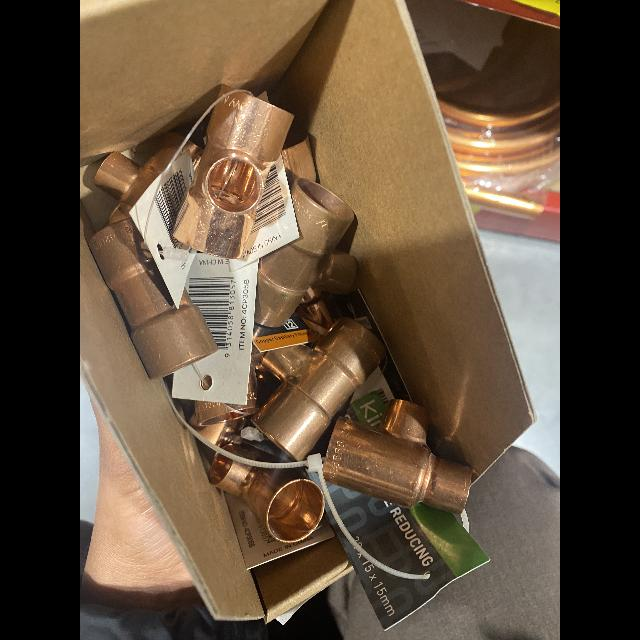Copper: (175, 90, 294, 259), (90, 219, 215, 378), (254, 318, 385, 460), (323, 400, 473, 513), (255, 178, 358, 327), (209, 453, 323, 542), (95, 130, 185, 225), (227, 353, 265, 411), (189, 413, 246, 447), (281, 137, 316, 184), (296, 288, 334, 330), (193, 401, 245, 425), (223, 443, 285, 462), (178, 140, 203, 176)
